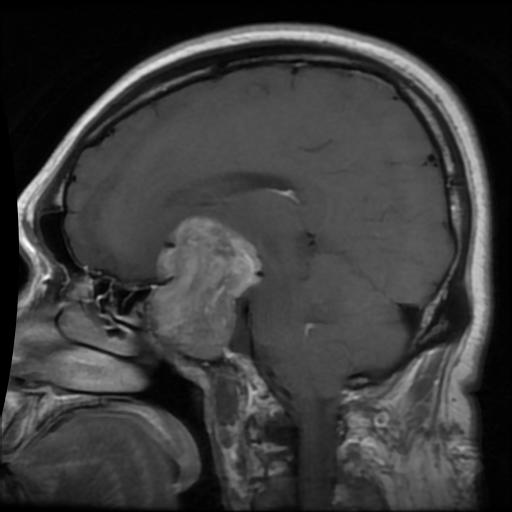Pituirity_tumour: (150, 215, 258, 356)
